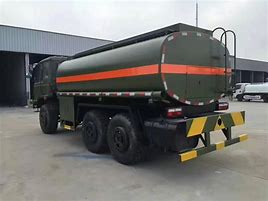oil truck: (19, 15, 251, 165)
